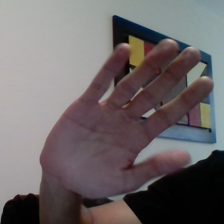left: (29, 18, 213, 210)
